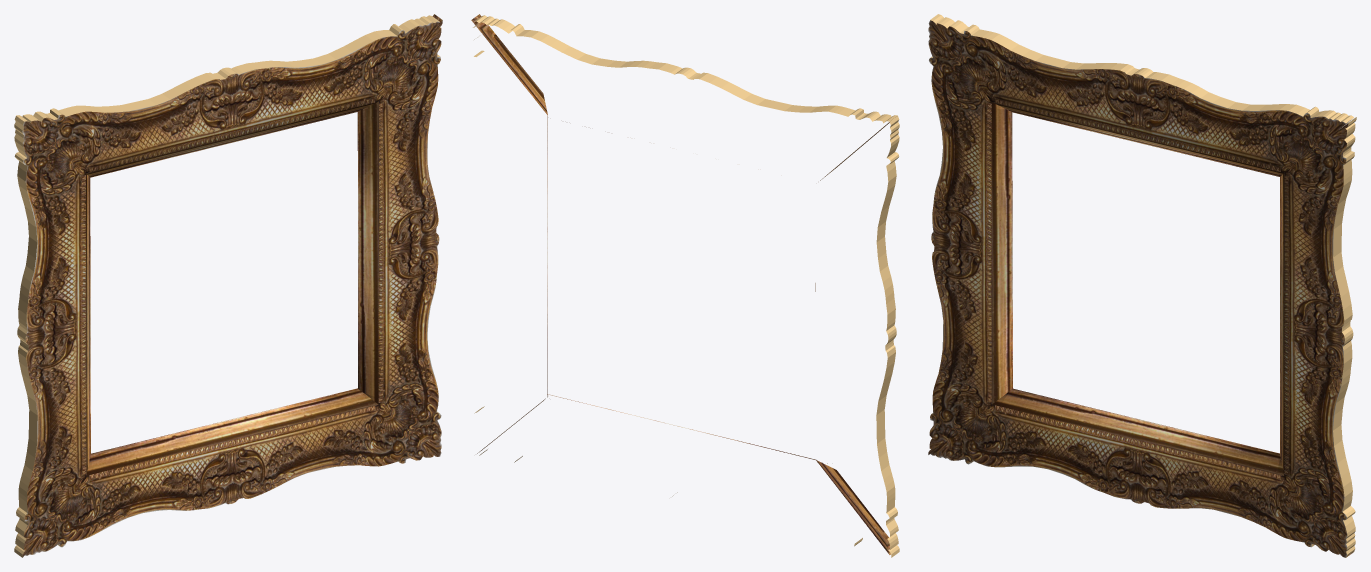
Rendered from frame.glb.
The picture shows the model from 3 angles, left to right: view 1: azimuth 30°, elevation 25°; view 2: azimuth 150°, elevation 25°; view 3: azimuth 330°, elevation 25°; orthographic projection.
Parts seen in each view (by area): view 1: kehys; view 2: kehys; view 3: kehys.
Boxes of the visible parts, x1,y1,x2,y2 form: kehys: [14, 14, 442, 557]; kehys: [471, 14, 899, 557]; kehys: [928, 14, 1356, 557].
Size of the model in its own units: 7.34 by 7.29 by 0.254.
1 material, 1 textured.
